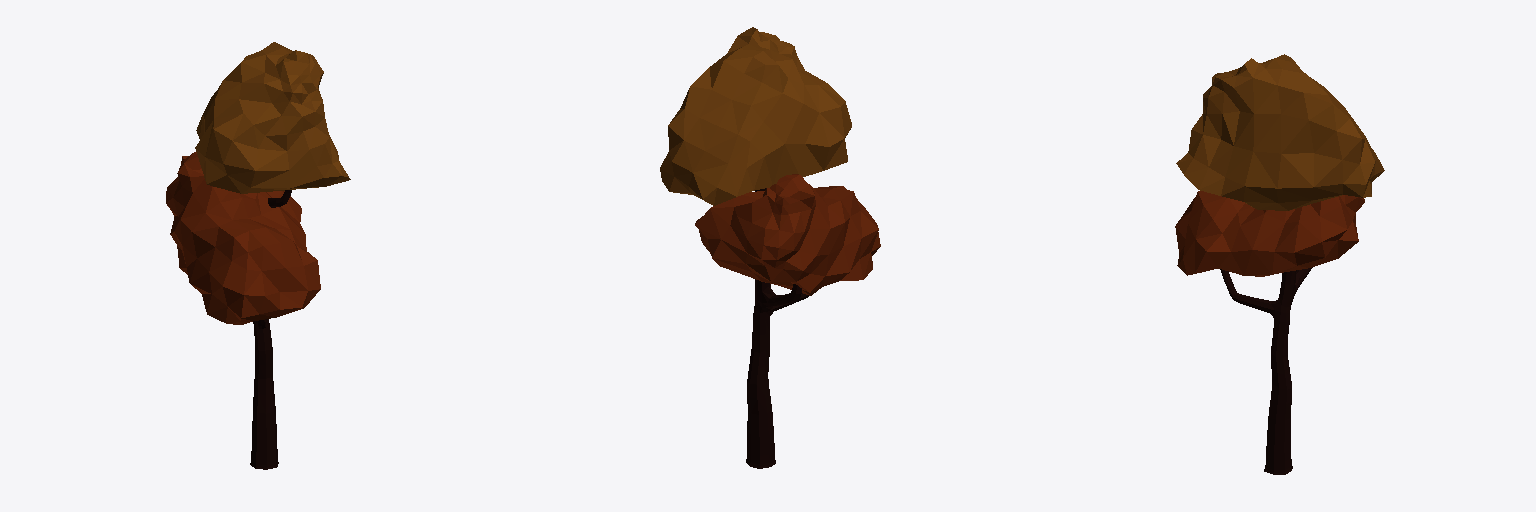
File: CommonTree_Autumn_3_Cube.obj
The picture shows the model from 3 angles: view 1: azimuth 30°, elevation 25°; view 2: azimuth 150°, elevation 25°; view 3: azimuth 270°, elevation 25°; orthographic projection.
Parts seen in each view (by area): view 1: CommonTree_Autumn_3_Cube.091; view 2: CommonTree_Autumn_3_Cube.091; view 3: CommonTree_Autumn_3_Cube.091.
Boxes of the visible parts, x1,y1,x2,y2 form: CommonTree_Autumn_3_Cube.091: [166, 42, 350, 469]; CommonTree_Autumn_3_Cube.091: [660, 27, 880, 468]; CommonTree_Autumn_3_Cube.091: [1175, 54, 1384, 474].
Bounding box in the file's own units: 1.27 × 3.46 × 1.56.